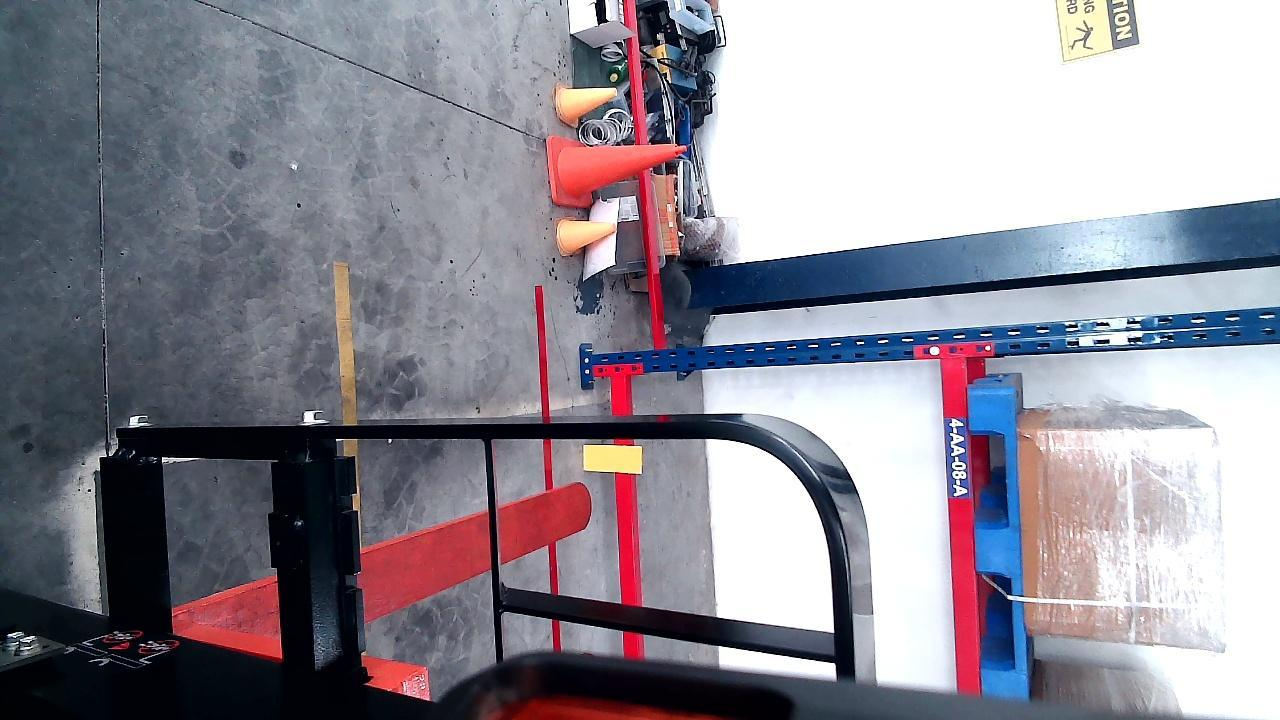red_line: (532, 289, 563, 645)
yellow_line: (332, 263, 358, 420)
